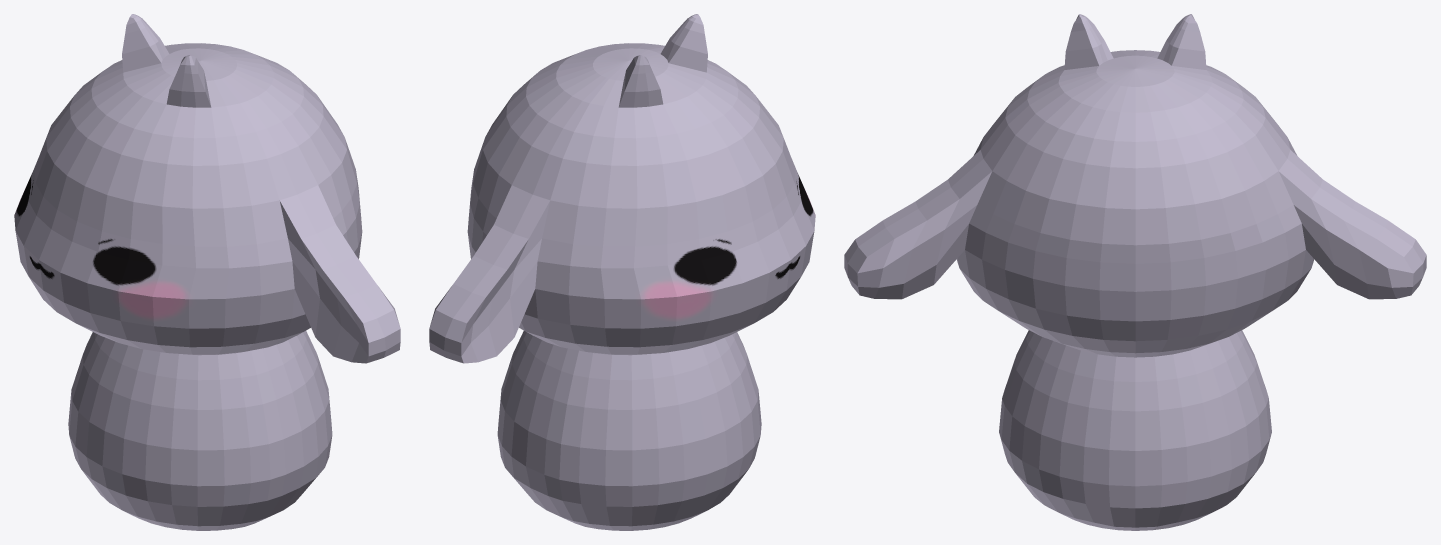
The model's file is hapticos_goat.fbx.
3 renders of one model, left to right at view 1: azimuth 30°, elevation 25°; view 2: azimuth 150°, elevation 25°; view 3: azimuth 270°, elevation 25°, orthographic.
Visible parts, largest first — view 1: Cabra Completa; view 2: Cabra Completa; view 3: Cabra Completa.
Part boxes in pixels (box(x1,y1,x2,y2)): Cabra Completa: box(14, 14, 400, 530); Cabra Completa: box(429, 14, 815, 530); Cabra Completa: box(844, 14, 1426, 530).
Size of the model in its own units: 169 by 262 by 290.
1 material, 1 textured.
